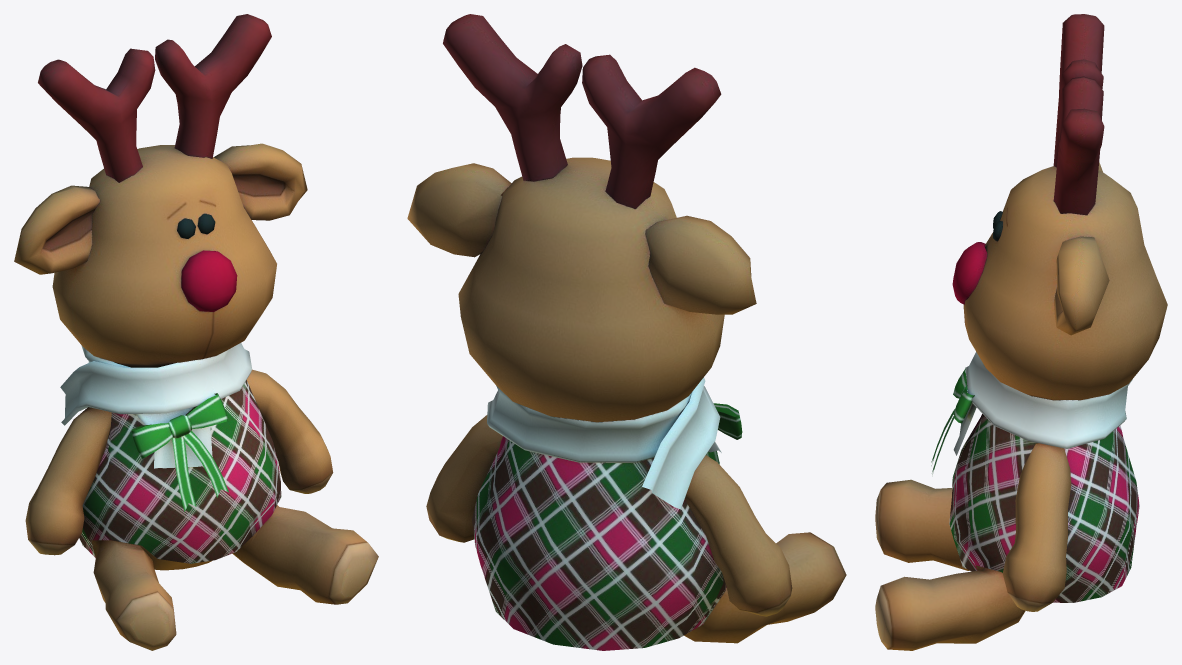
Rendered from reindeer.glb.
The picture shows the model from 3 angles, left to right: view 1: azimuth 30°, elevation 25°; view 2: azimuth 150°, elevation 25°; view 3: azimuth 270°, elevation 25°; orthographic projection. The views are drawn at different scales.
Visible parts, largest first — view 1: Reno_LOD1; view 2: Reno_LOD1; view 3: Reno_LOD1.
Part boxes in pixels (x1,y1,x2,y2): Reno_LOD1: [14, 14, 378, 650]; Reno_LOD1: [407, 14, 846, 650]; Reno_LOD1: [875, 14, 1167, 650].
Bounding box in the file's own units: 0.4127 × 0.6861 × 0.3367.
Materials: 1 (1 with a texture image).
